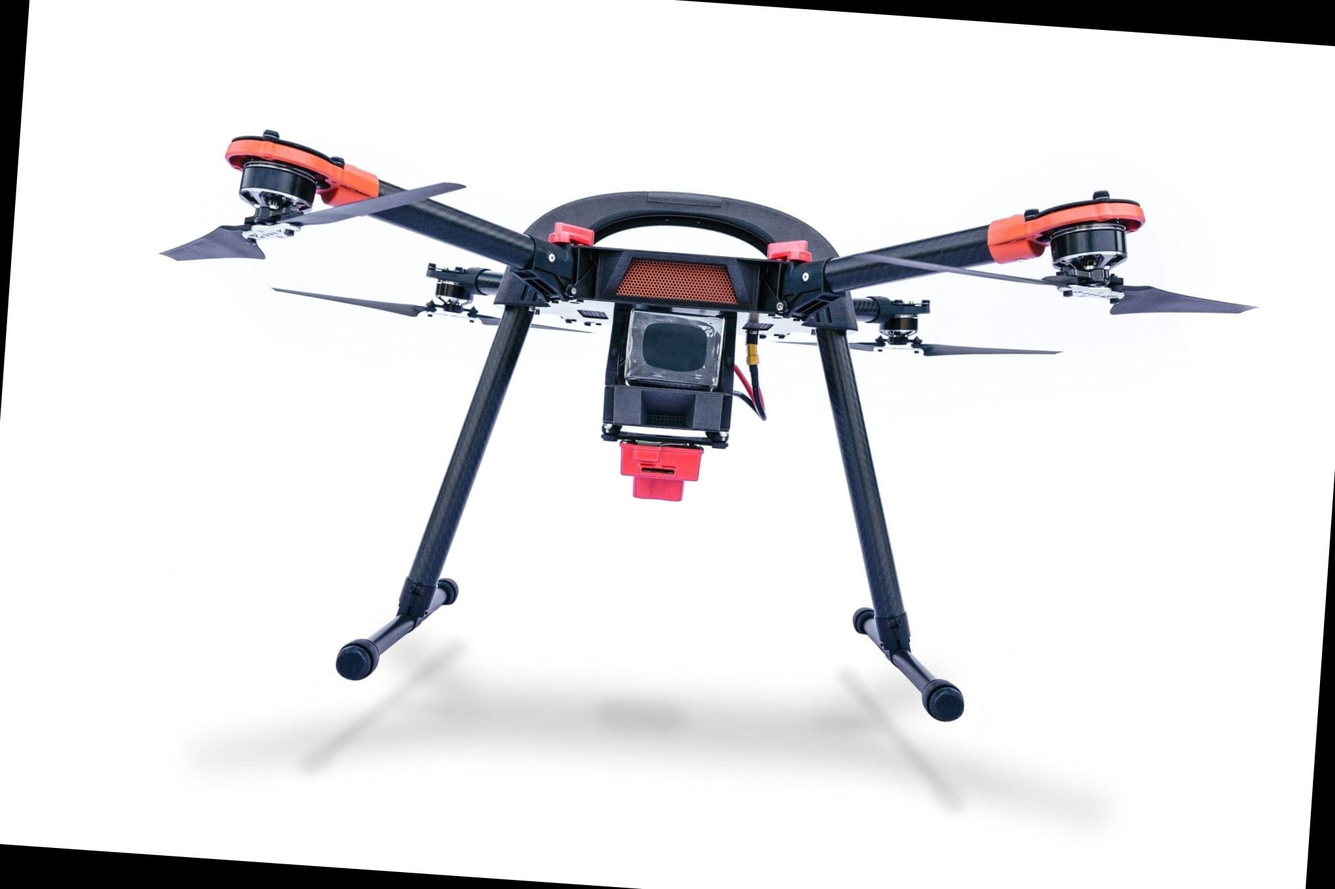drone: (139, 90, 1246, 473)
